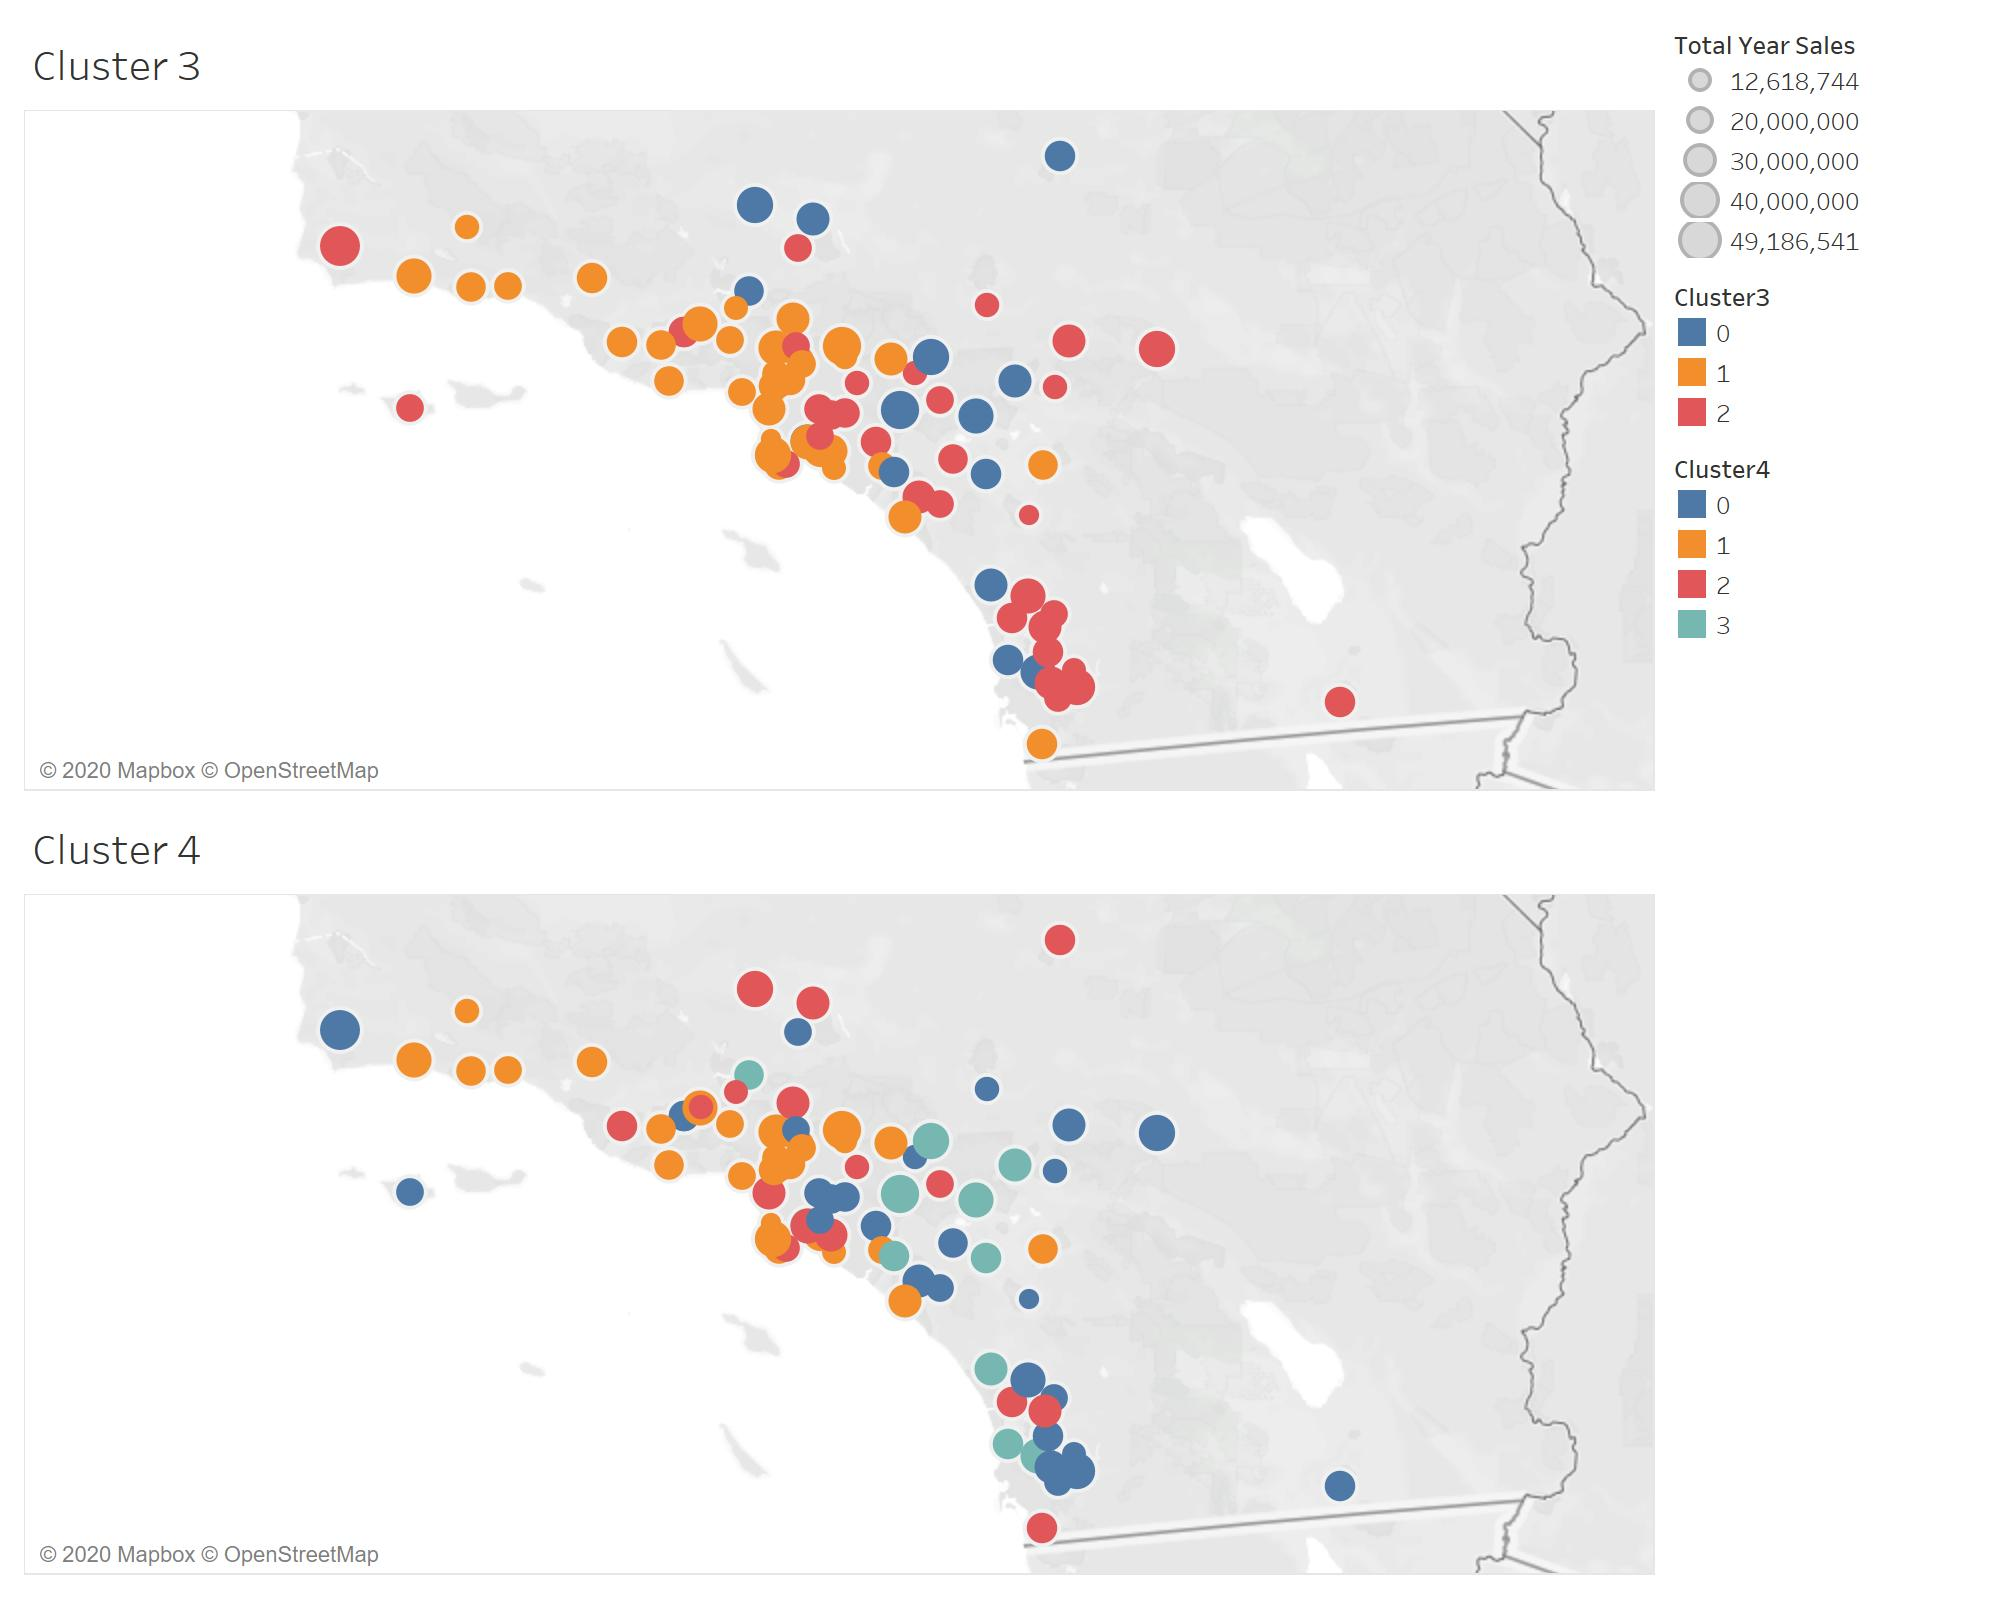

What the dashboard file says about the page in this screenshot:
{"tool":"tableau","page":{"name":"Dashboard 1","canvas":[1000,800],"ordinal":0},"visuals":[{"type":"worksheet","title":"Cluster 3","mark":"Automatic","box":[8,8,824,392]},{"type":"legend","title":"Cluster 3","param":"[federated.0ldgug01u6h59818p028s1iiet6p].[sum:Total_Year_Sales:qk]","box":[832,8,160,126]},{"type":"legend","title":"Cluster 3","param":"[federated.0ldgug01u6h59818p028s1iiet6p].[sum:Cluster3:ok]","box":[832,134,160,86]},{"type":"legend","title":"Cluster 4","param":"[federated.0ldgug01u6h59818p028s1iiet6p].[sum:Cluster4:ok]","box":[832,220,160,106]},{"type":"worksheet","title":"Cluster 4","mark":"Automatic","box":[8,400,824,392]}]}

Visuals, with their boxes in screenshot pixels (x1, y1, x2, y2), scaled from the page's 1000x800 canvas onto the 2000x1600 screenshot:
"Cluster 3" worksheet: (x1=16, y1=16, x2=1664, y2=800)
"Cluster 3" legend: (x1=1664, y1=16, x2=1984, y2=268)
"Cluster 3" legend: (x1=1664, y1=268, x2=1984, y2=440)
"Cluster 4" legend: (x1=1664, y1=440, x2=1984, y2=652)
"Cluster 4" worksheet: (x1=16, y1=800, x2=1664, y2=1584)
